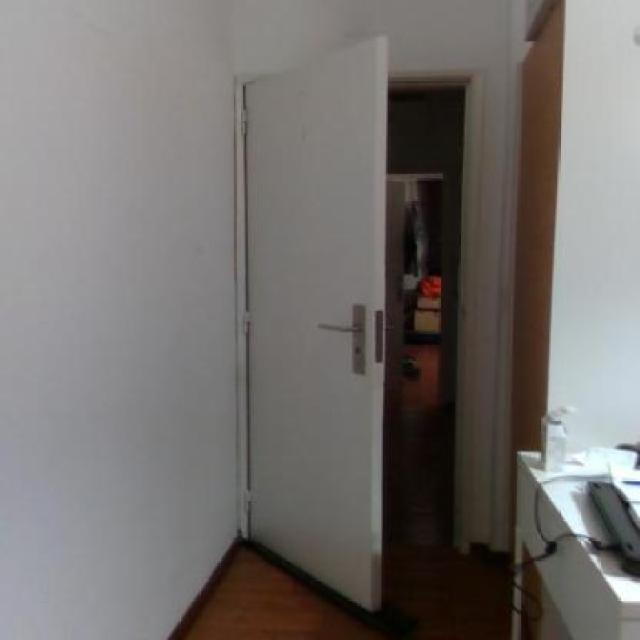door_handle: (318, 318, 364, 342)
